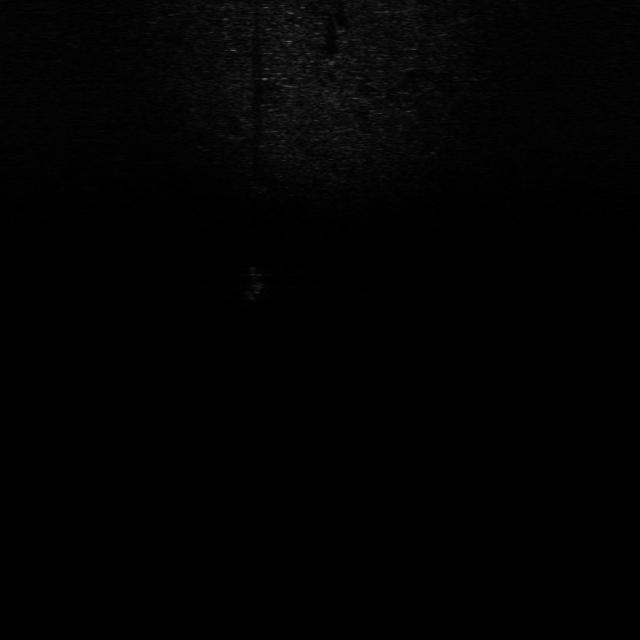human body: (243, 266, 269, 304)
